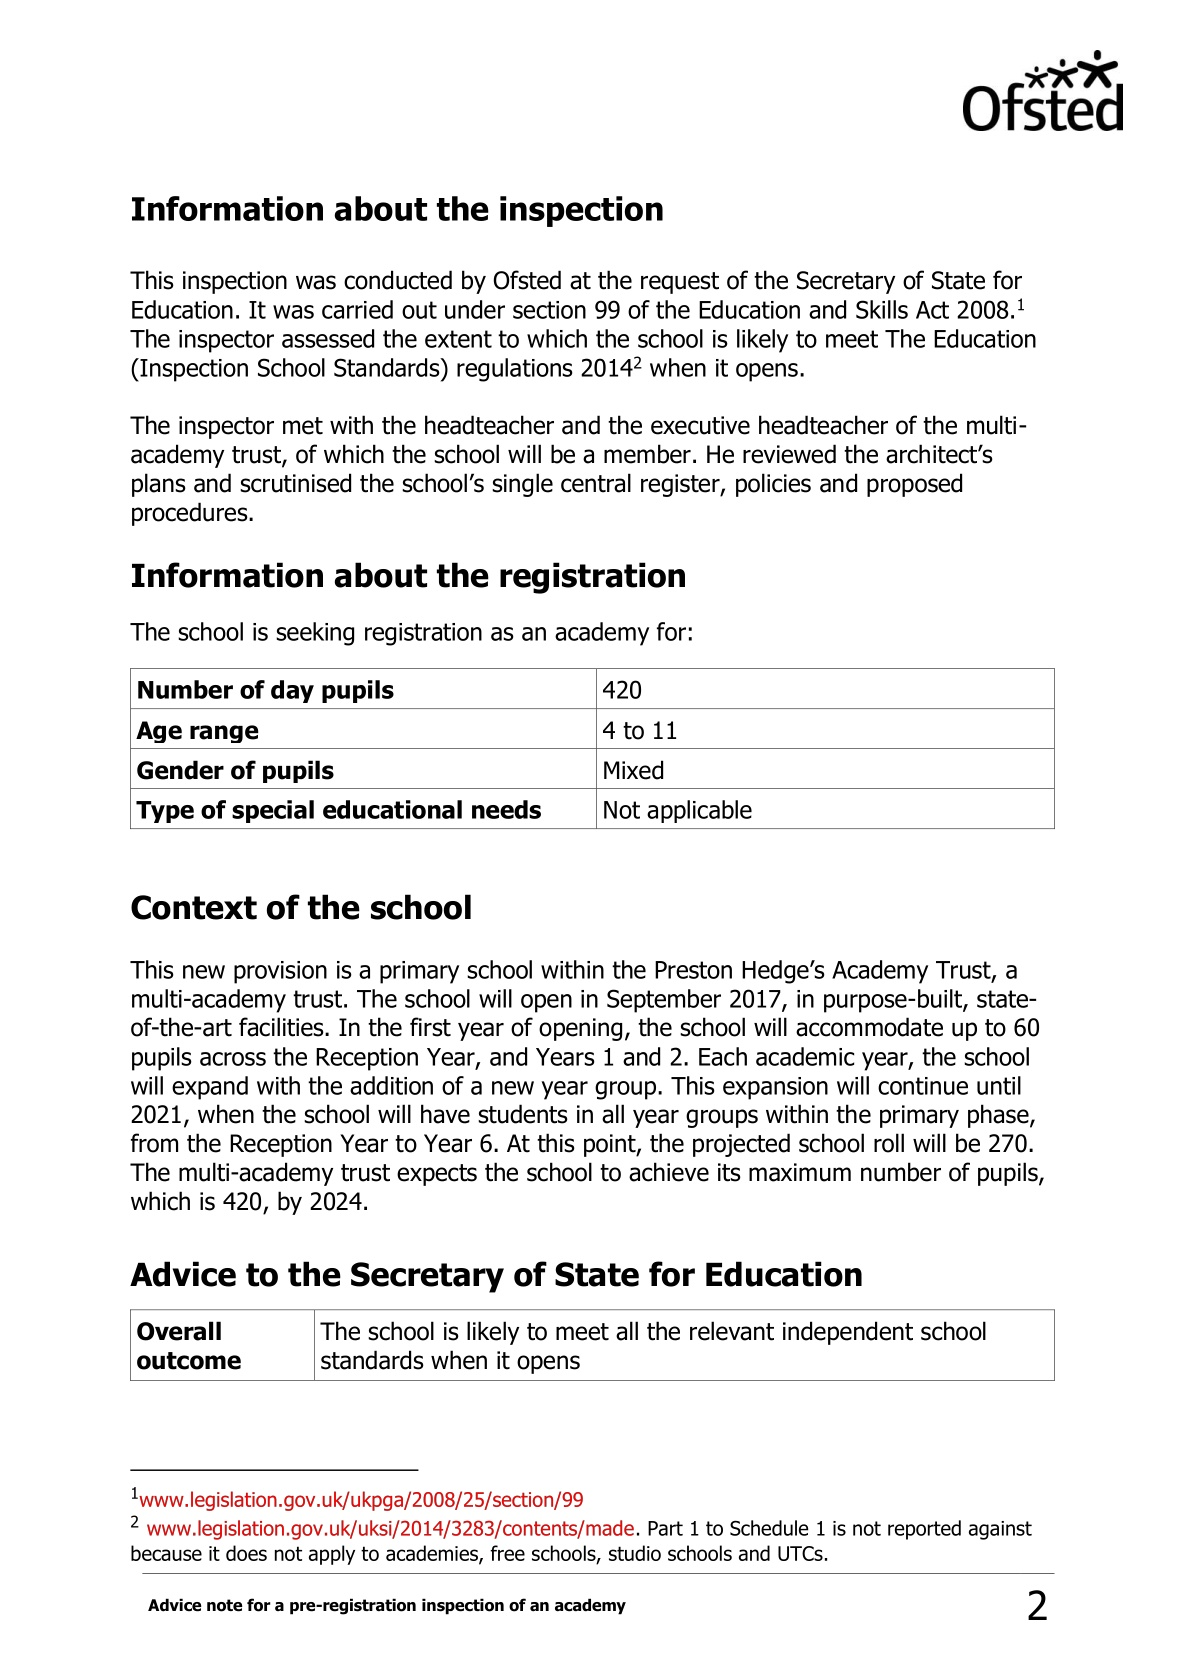full_lined: (129, 667, 1055, 830), (129, 1308, 1055, 1382)
